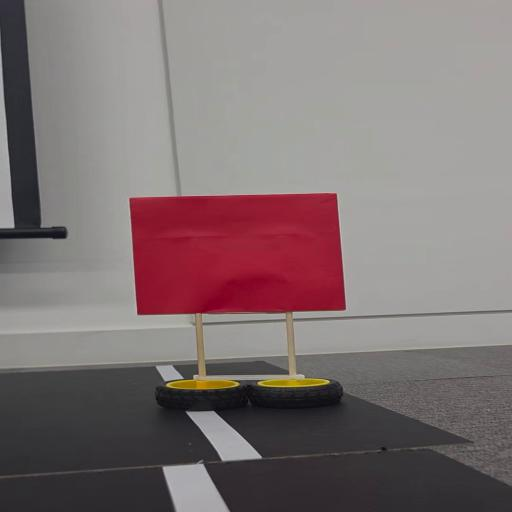Sign_A: (125, 191, 348, 406)
